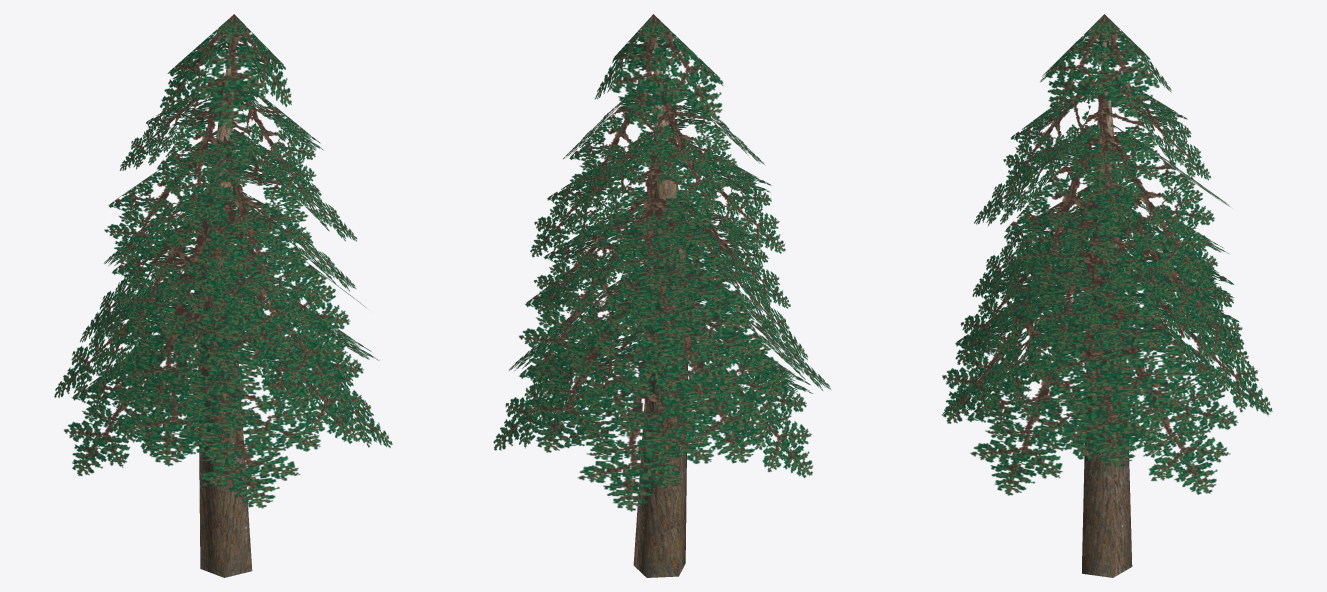
File: spruce_tree.glb
3 renders of one model, left to right at view 1: azimuth 30°, elevation 25°; view 2: azimuth 150°, elevation 25°; view 3: azimuth 270°, elevation 25°, orthographic.
Visible parts, largest first — view 1: Circle; view 2: Circle; view 3: Circle.
Part boxes in pixels (left/top/right/bottom): Circle: left=54, top=14, right=392, bottom=577; Circle: left=493, top=14, right=831, bottom=577; Circle: left=941, top=14, right=1272, bottom=577.
Size of the model in its own units: 2.73 by 4.01 by 2.72.
2 materials, 2 textured.
